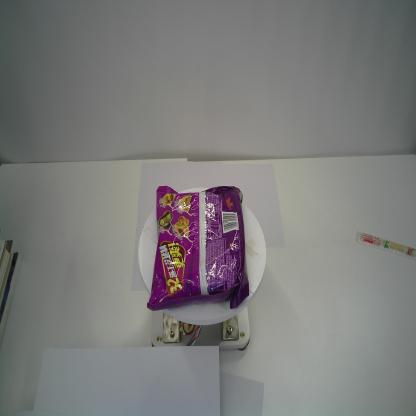Instant Noodles: (146, 183, 250, 310)
